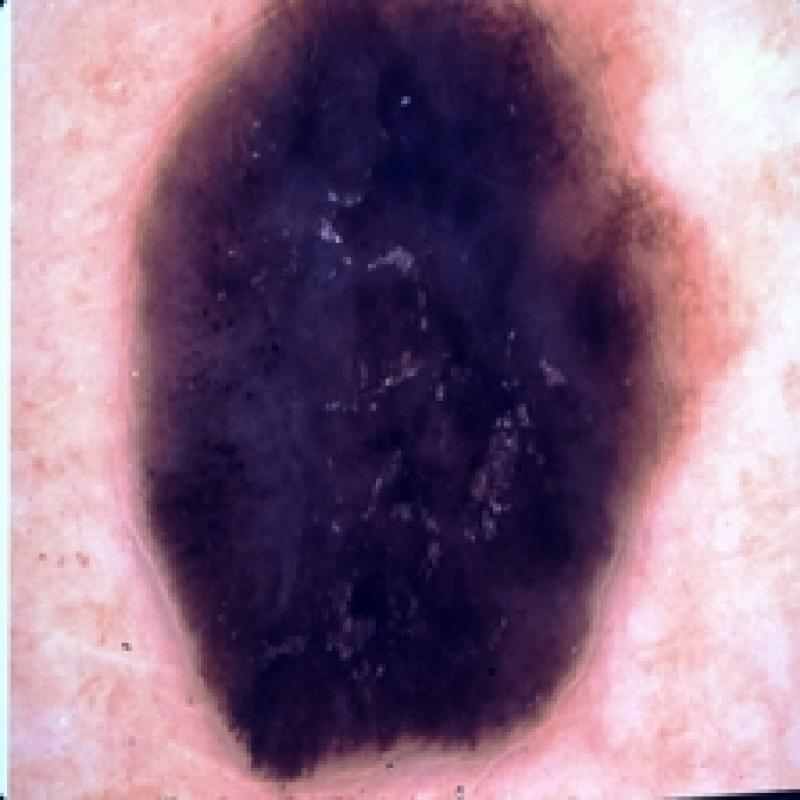malignant: (125, 0, 738, 784)
